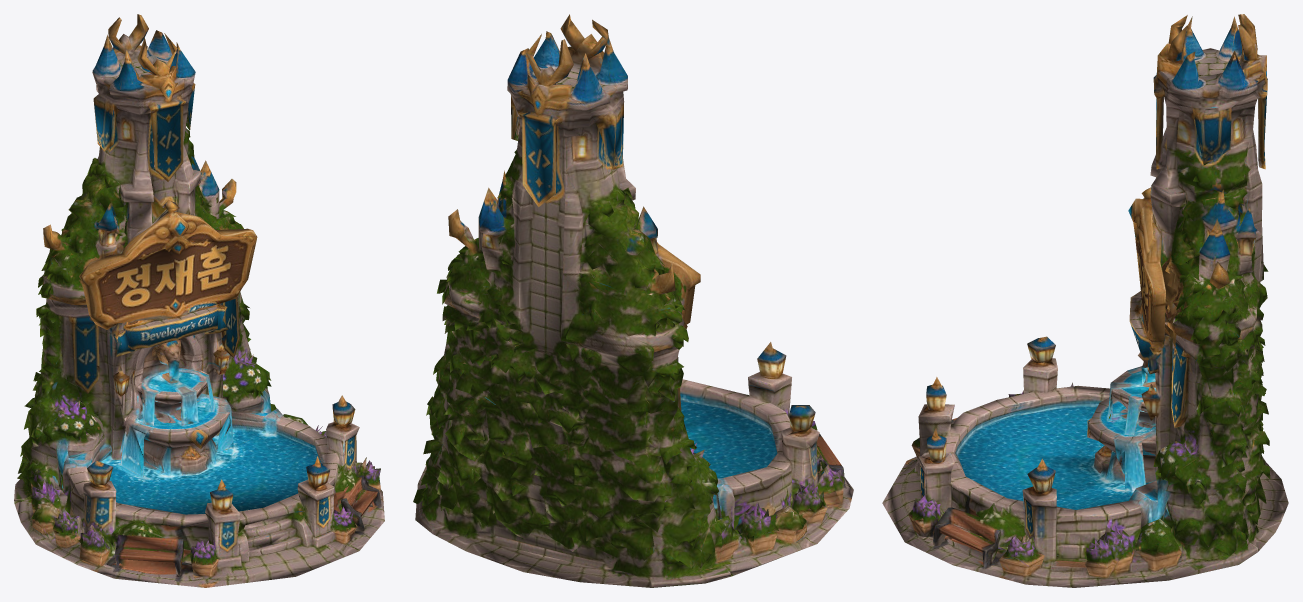
The model's file is central-plaza.glb.
The picture shows the model from 3 angles, left to right: view 1: azimuth 30°, elevation 25°; view 2: azimuth 150°, elevation 25°; view 3: azimuth 270°, elevation 25°; orthographic projection. The views are drawn at different scales.
Parts seen in each view (by area): view 1: Mesh1.0; view 2: Mesh1.0; view 3: Mesh1.0.
Boxes of the visible parts, box(x1,y1,x2,y2) form: Mesh1.0: box(14, 14, 384, 587); Mesh1.0: box(413, 14, 853, 587); Mesh1.0: box(882, 14, 1288, 587).
Bounding box in the file's own units: 1.45 × 1.9 × 1.45.
1 material, 1 textured.
